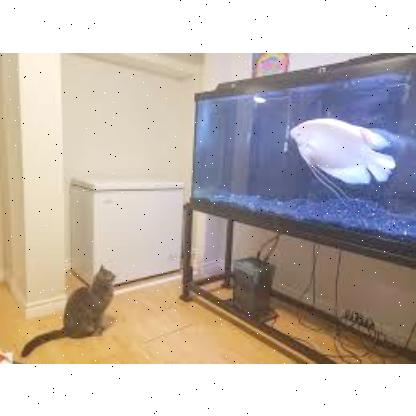gurame: (287, 118, 395, 184)
